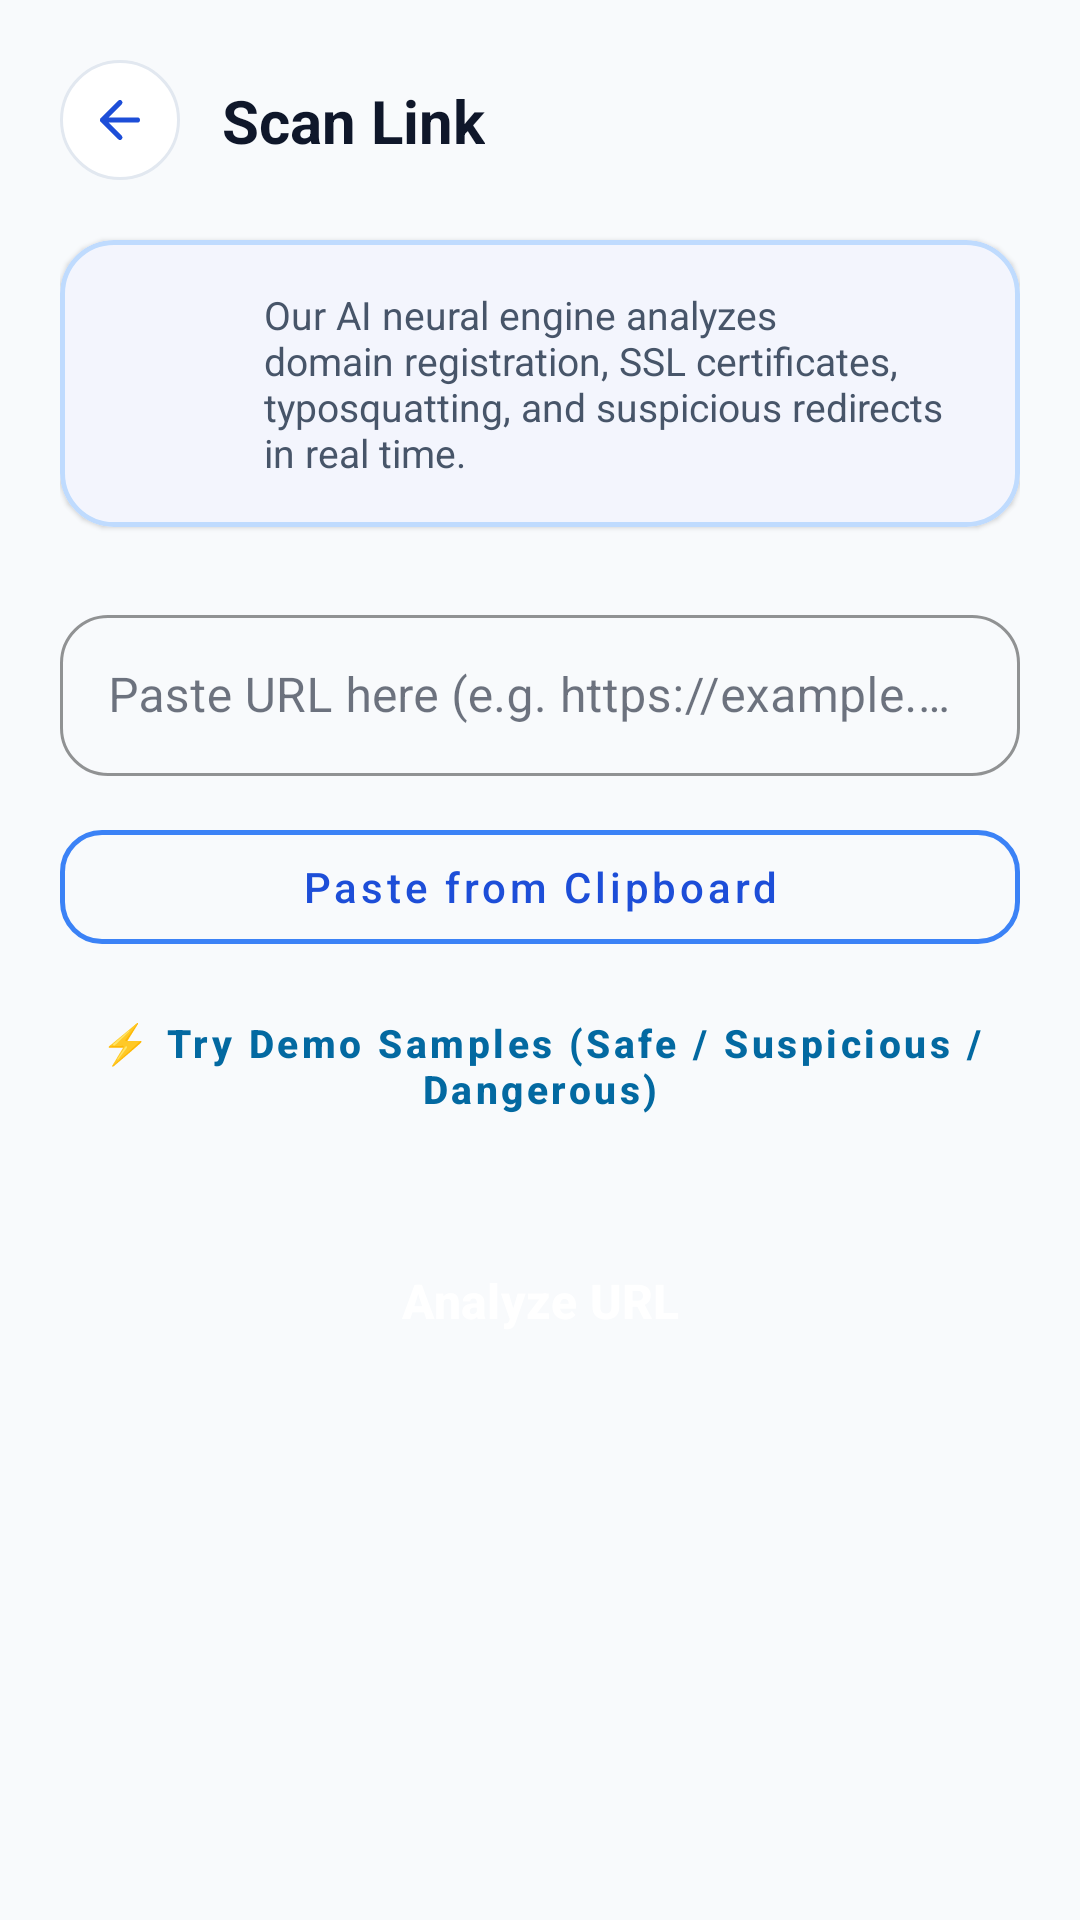

Locate icon controls on the screen. Image size 1080px x 1920px, boxes as (x1, y1, x2, y2).
arrow back: (100, 100, 140, 140)
